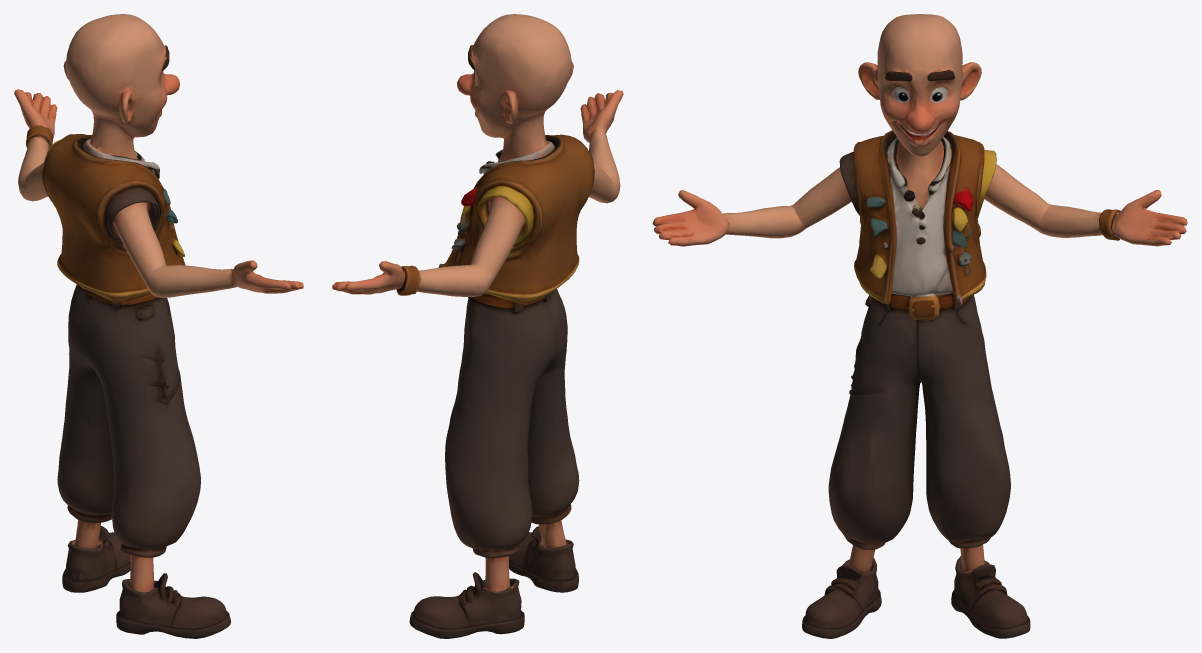
Rendered from keloglan.glb.
3 views of the same model, side by side, from view 1: azimuth 30°, elevation 25°; view 2: azimuth 150°, elevation 25°; view 3: azimuth 270°, elevation 25° (orthographic).
Parts seen in each view (by area): view 1: tripo_node_329fb149-eaa7-45f7-834e-d0c1ba3d469b; view 2: tripo_node_329fb149-eaa7-45f7-834e-d0c1ba3d469b; view 3: tripo_node_329fb149-eaa7-45f7-834e-d0c1ba3d469b.
Boxes of the visible parts, x1,y1,x2,y2 form: tripo_node_329fb149-eaa7-45f7-834e-d0c1ba3d469b: [14, 14, 303, 638]; tripo_node_329fb149-eaa7-45f7-834e-d0c1ba3d469b: [332, 14, 623, 638]; tripo_node_329fb149-eaa7-45f7-834e-d0c1ba3d469b: [652, 14, 1187, 638].
Size of the model in its own units: 0.2021 by 1 by 0.8172.
1 material, 1 textured.
